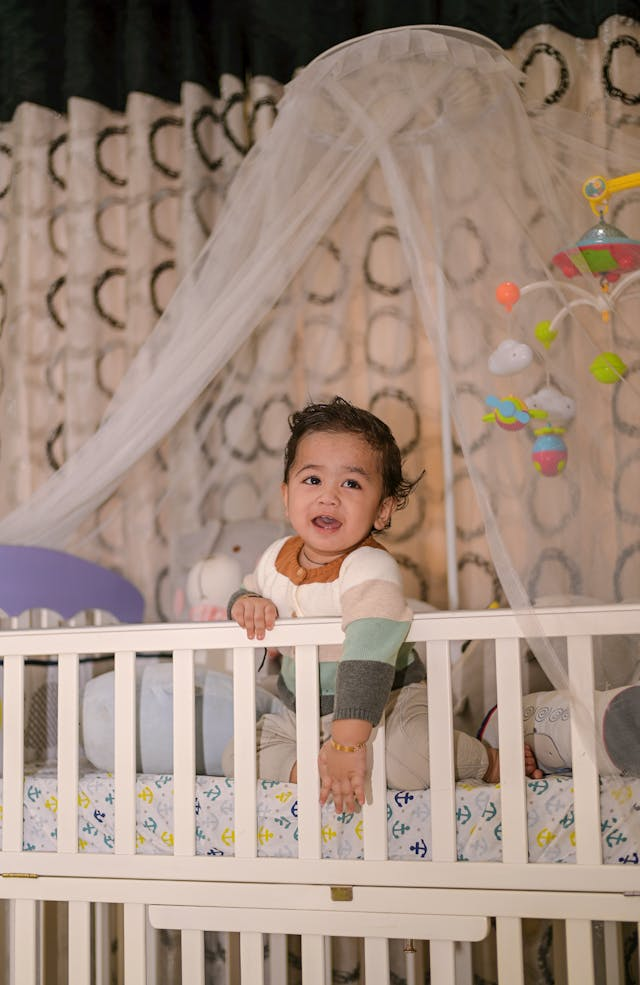baby: (228, 397, 428, 812)
crib: (0, 604, 639, 984)
